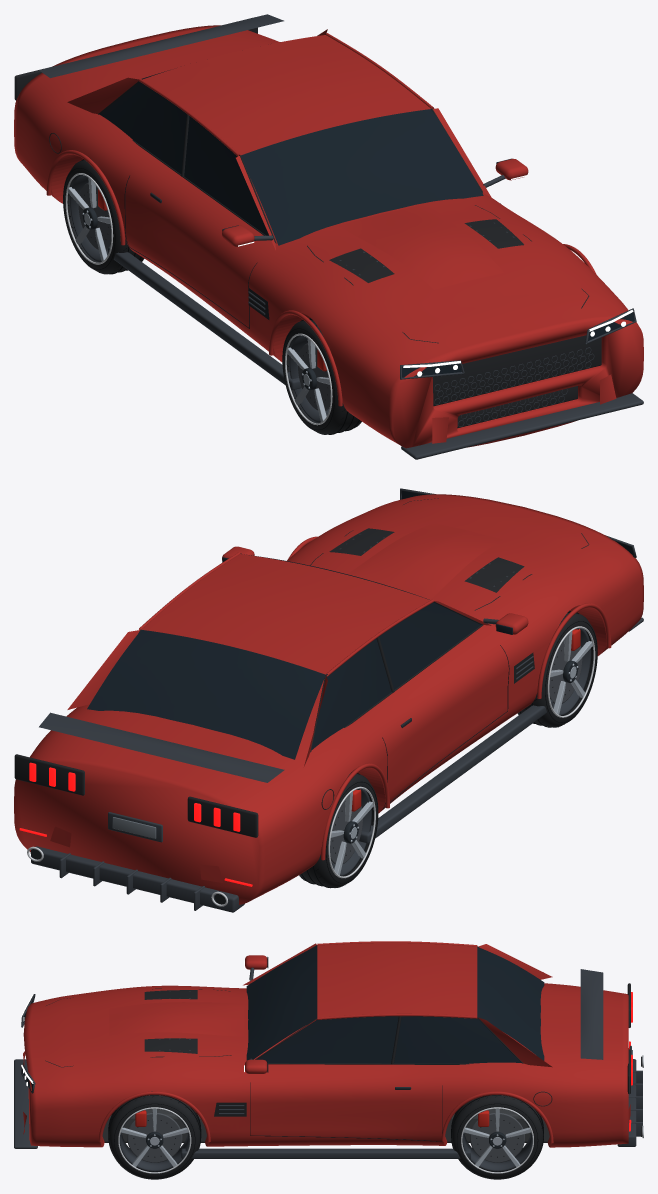
Rendered from mustang.glb.
3 renders of one model, top to bottom at view 1: azimuth 30°, elevation 25°; view 2: azimuth 150°, elevation 25°; view 3: azimuth 270°, elevation 25°, orthographic. The views are drawn at different scales.
Parts seen in each view (by area): view 1: Web_Chassis_Rig_mustang_Exterior_NewPaint, Web_Chassis_Rig_Detail_Glass_Tinted, Web_Chassis_Rig_Graphite metal, Web_Chassis_Rig_Rubber, Web_Wheel_FR_Rubber, Web_Wheel_RR_Rubber, Web_Wheel_FR_V6 Forged alloy, Web_Wheel_RR_V6 Forged alloy, Brake rotor.001, Brake rotor, Web_Wheel_RR_Graphite metal, Web_Wheel_FR_Graphite metal; view 2: Web_Chassis_Rig_mustang_Exterior_NewPaint, Web_Chassis_Rig_Detail_Glass_Tinted, Web_Chassis_Rig_Graphite metal, Web_Chassis_Rig_Rubber, Web_Wheel_FR_Rubber, Web_Wheel_RR_Rubber, Web_Chassis_Rig_Red LED, Web_Wheel_FR_V6 Forged alloy, Web_Wheel_RR_V6 Forged alloy, Brake rotor.001, Brake rotor, Web_Wheel_FR_Graphite metal (+1 smaller); view 3: Web_Chassis_Rig_mustang_Exterior_NewPaint, Web_Chassis_Rig_Detail_Glass_Tinted, Web_Chassis_Rig_Graphite metal, Web_Chassis_Rig_Rubber, Web_Wheel_FL_Rubber, Web_Wheel_RL_Rubber, Brake rotor.003, Brake rotor.002, Continuous_central_floor_pan, Web_Wheel_FL_Graphite metal, Web_Wheel_RL_Graphite metal, Web_Wheel_FL_V6 Forged alloy (+5 smaller).
Boxes of the visible parts, x1,y1,x2,y2 form: Web_Chassis_Rig_mustang_Exterior_NewPaint: (14,25,643,448); Web_Chassis_Rig_Detail_Glass_Tinted: (100,70,634,377); Web_Chassis_Rig_Graphite metal: (39,14,643,459); Web_Chassis_Rig_Rubber: (14,17,601,428); Web_Wheel_FR_Rubber: (282,318,361,434); Web_Wheel_RR_Rubber: (63,159,144,274); Web_Wheel_FR_V6 Forged alloy: (287,338,329,422); Web_Wheel_RR_V6 Forged alloy: (68,178,110,261); Brake rotor.001: (297,343,330,411); Brake rotor: (78,182,111,250); Web_Wheel_RR_Graphite metal: (69,175,107,262); Web_Wheel_FR_Graphite metal: (289,335,329,423); Web_Chassis_Rig_mustang_Exterior_NewPaint: (14,494,643,904); Web_Chassis_Rig_Detail_Glass_Tinted: (87,491,633,759); Web_Chassis_Rig_Graphite metal: (31,488,643,912); Web_Chassis_Rig_Rubber: (14,498,589,904); Web_Wheel_FR_Rubber: (517,611,597,727); Web_Wheel_RR_Rubber: (299,773,378,887); Web_Chassis_Rig_Red LED: (19,762,252,886); Web_Wheel_FR_V6 Forged alloy: (550,630,592,714); Web_Wheel_RR_V6 Forged alloy: (331,792,373,875); Brake rotor.001: (549,639,582,703); Brake rotor: (330,799,362,864); Web_Wheel_FR_Graphite metal: (553,628,591,715); Web_Chassis_Rig_mustang_Exterior_NewPaint: (23,941,630,1147); Web_Chassis_Rig_Detail_Glass_Tinted: (22,946,544,1089); Web_Chassis_Rig_Graphite metal: (14,967,642,1158); Web_Chassis_Rig_Rubber: (45,945,642,1136); Web_Wheel_FL_Rubber: (109,1091,200,1179); Web_Wheel_RL_Rubber: (451,1095,543,1179); Brake rotor.003: (127,1113,182,1162); Brake rotor.002: (470,1113,524,1162); Continuous_central_floor_pan: (102,1109,549,1142); Web_Wheel_FL_Graphite metal: (119,1109,189,1172); Web_Wheel_RL_Graphite metal: (462,1109,532,1172); Web_Wheel_FL_V6 Forged alloy: (121,1108,188,1167).
Size of the model in its own units: 2.12 by 1.38 by 5.
